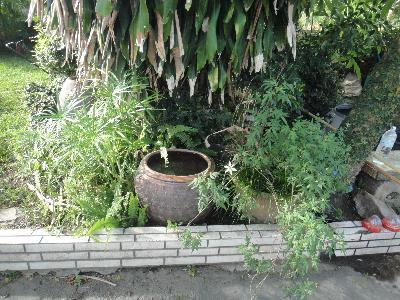bottle: (373, 124, 398, 163)
bowl: (133, 147, 218, 226)
